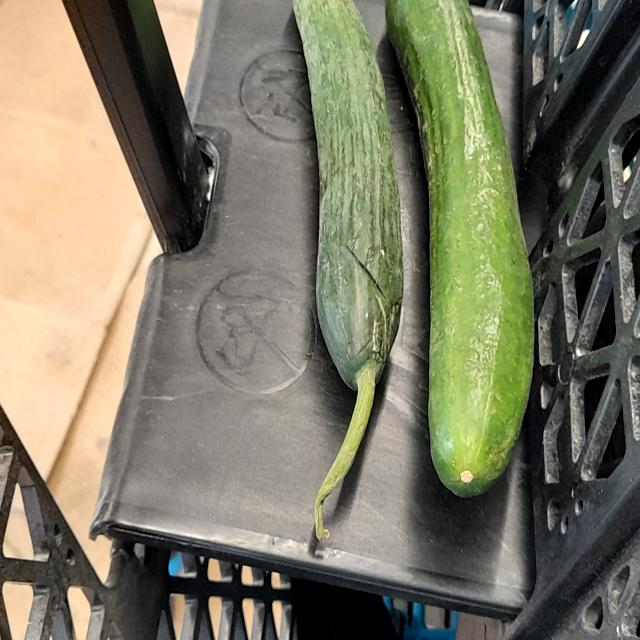cucumber: (386, 0, 542, 501), (286, 0, 413, 537)
